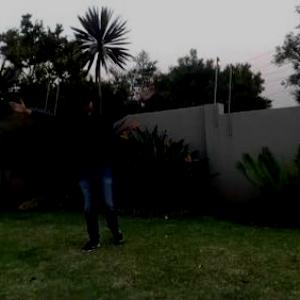takeoff: (20, 77, 151, 266)
